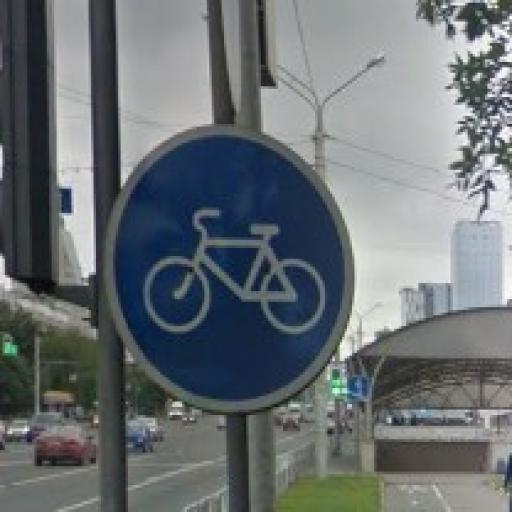traffic_sign: (102, 125, 358, 416)
